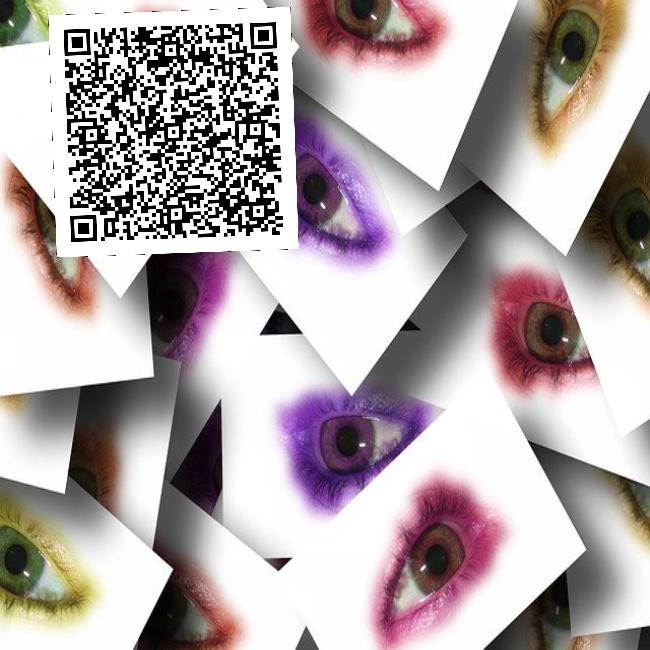qr_code: (48, 7, 298, 257)
